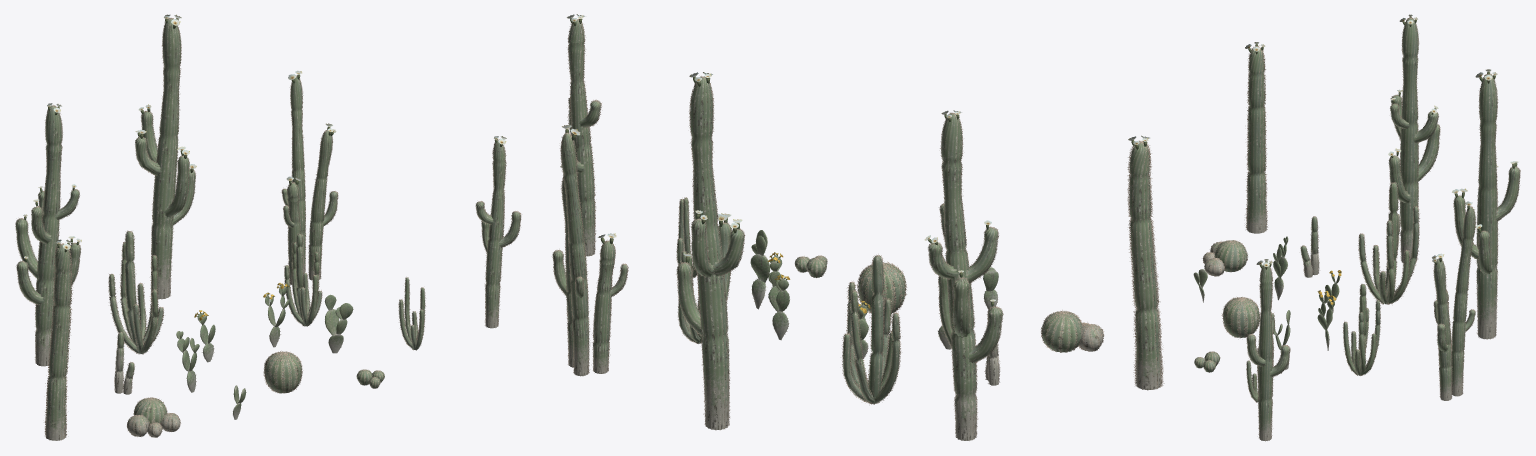
File: cacti.glb
3 views of the same model, side by side, from view 1: azimuth 30°, elevation 25°; view 2: azimuth 150°, elevation 25°; view 3: azimuth 270°, elevation 25° (orthographic). The views are drawn at different scales.
Visible parts, largest first — view 1: cactus_0, spines 01_6, cactus blend_1, prickly pear_4, prickly pear blend_3, saguaro flower_7; view 2: cactus_0, spines 01_6, cactus blend_1, prickly pear_4, prickly pear blend_3, saguaro flower_7; view 3: cactus_0, spines 01_6, cactus blend_1, prickly pear_4, saguaro flower_7, saguaro stem_2.
Part boxes in pixels (x1,y1,x2,y2): cactus_0: (16,18,520,423); spines 01_6: (15,18,521,440); cactus blend_1: (35,242,498,440); prickly pear_4: (176,286,353,403); prickly pear blend_3: (186,326,343,419); saguaro flower_7: (23,14,506,258); cactus_0: (553,20,1159,404); spines 01_6: (552,19,1164,439); cactus blend_1: (568,217,1161,440); prickly pear_4: (750,230,998,340); prickly pear blend_3: (752,278,997,358); saguaro flower_7: (560,14,1149,301); cactus_0: (1194,18,1519,413); spines 01_6: (1194,17,1520,440); cactus blend_1: (1203,201,1496,441); prickly pear_4: (1193,236,1340,349); saguaro flower_7: (1245,14,1518,266); saguaro stem_2: (1248,16,1517,269).
Bounding box in the file's own units: 7.03 × 3.98 × 4.34.
Materials: 10 (10 with a texture image).
